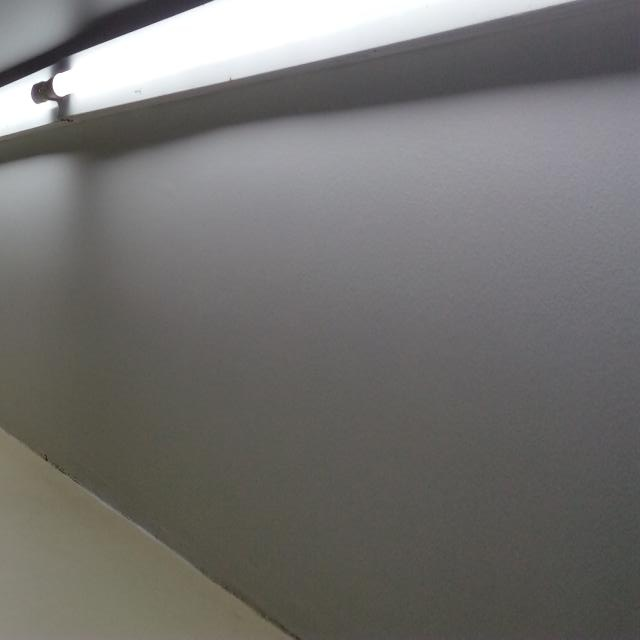fluorescent tube: (23, 0, 640, 187), (0, 53, 80, 191)
